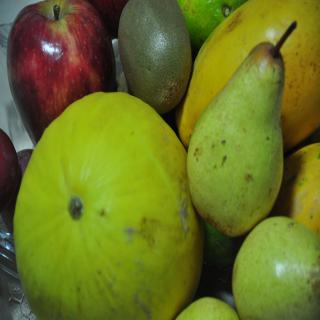Apple: (7, 0, 118, 147)
Mango: (174, 0, 320, 152), (274, 142, 320, 231)
Pear: (187, 21, 295, 236), (231, 213, 320, 320), (175, 296, 241, 320)
